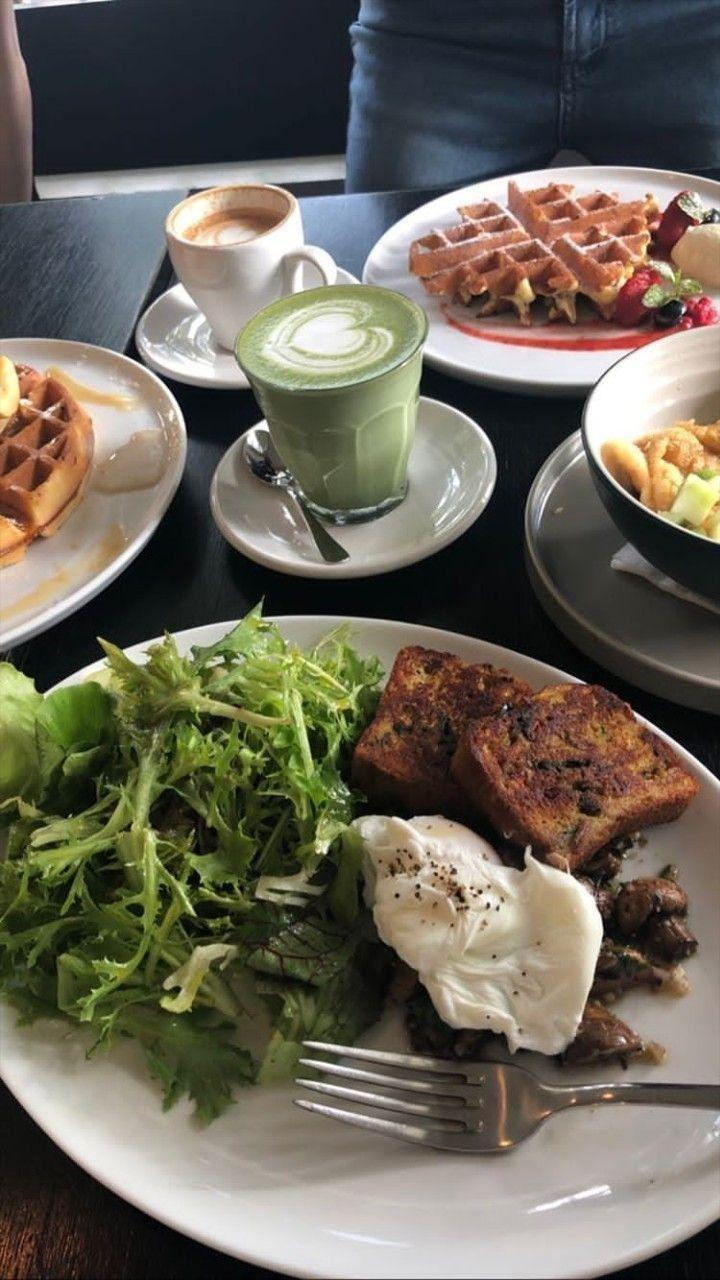cup-handle: (164, 182, 344, 350)
glass-normal: (232, 280, 430, 524)
